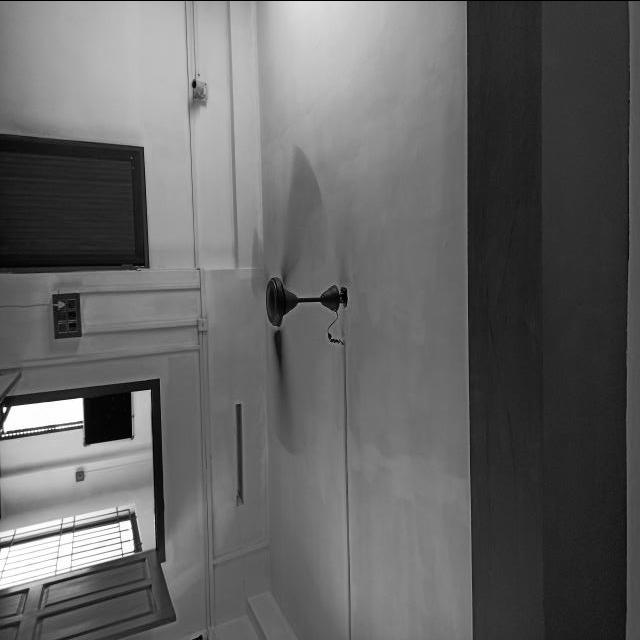fan: (257, 144, 349, 454)
light: (266, 275, 349, 326)
